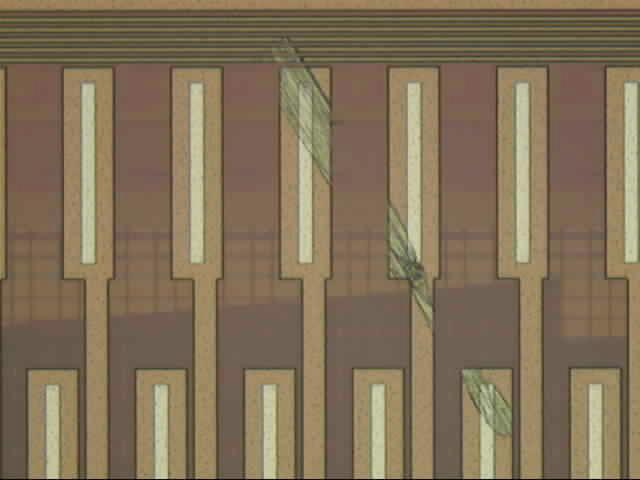SCRATCH: (265, 27, 533, 453)
